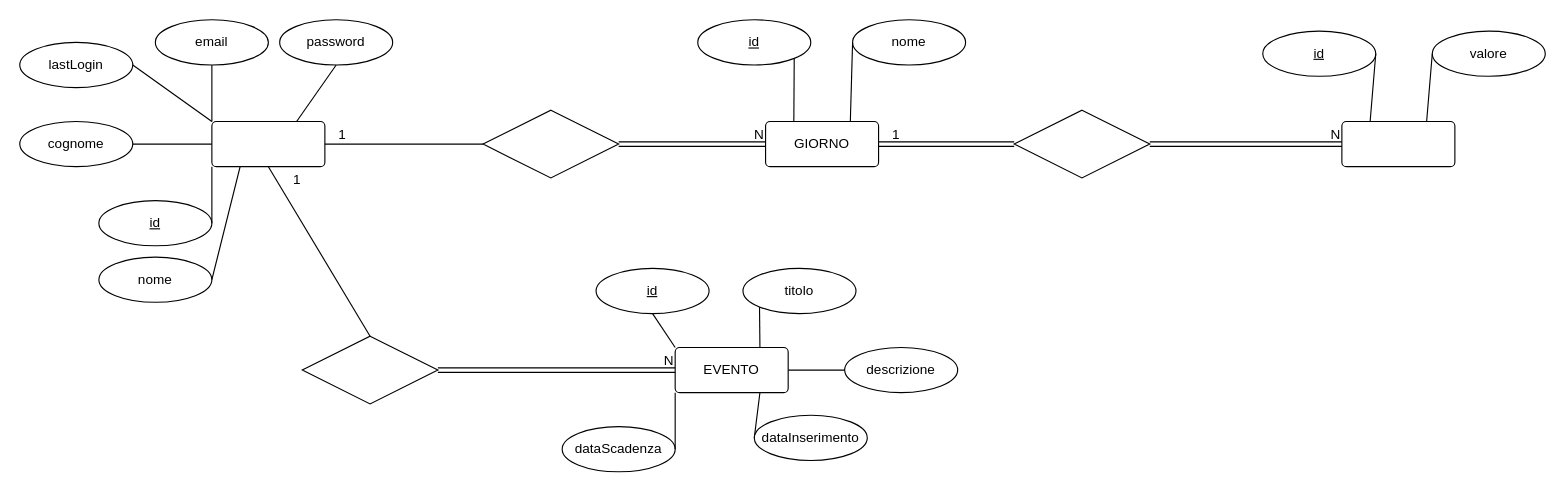
The diagram is 1565 pixels wide and 492 high, and some of its shapes have lost their labels. The centre of each missing label's shape, as x and y in pixels:
"COMPORRE" belongs at point (1081, 143).
"CREARE" belongs at point (369, 369).
"ORA" belongs at point (1398, 143).
"SETTARE" belongs at point (550, 143).
"UTENTE" belongs at point (268, 143).
